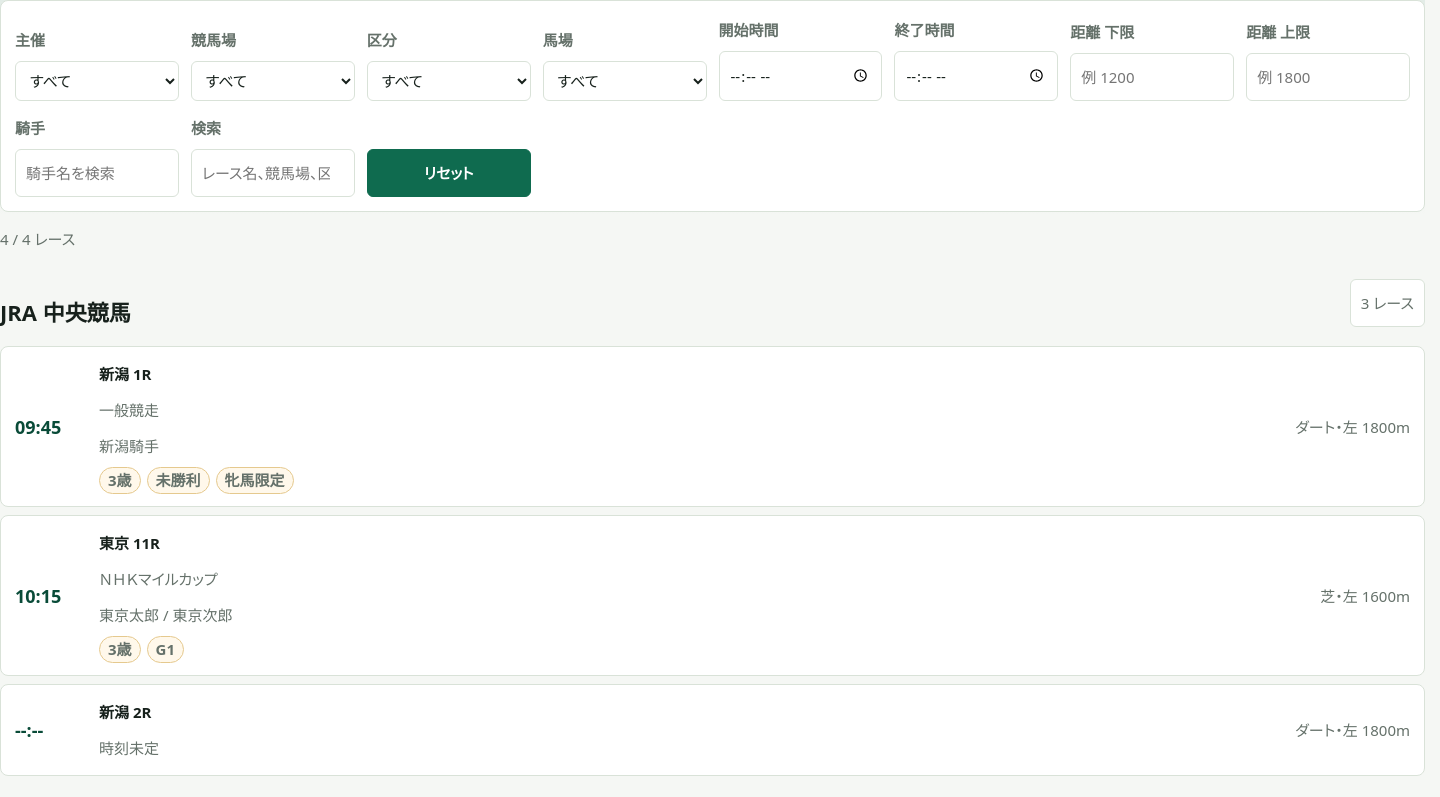
Test: race date filter › excludes races without start times when time filters are set
The width and height of the screenshot is (1440, 797).
Expected: the text "4 / 4 レース" is shown, [0,229,75,249]
Type "09:00" into the time field labelled "開始時間" at {"x": 800, "y": 76}, box [718,51,882,101]
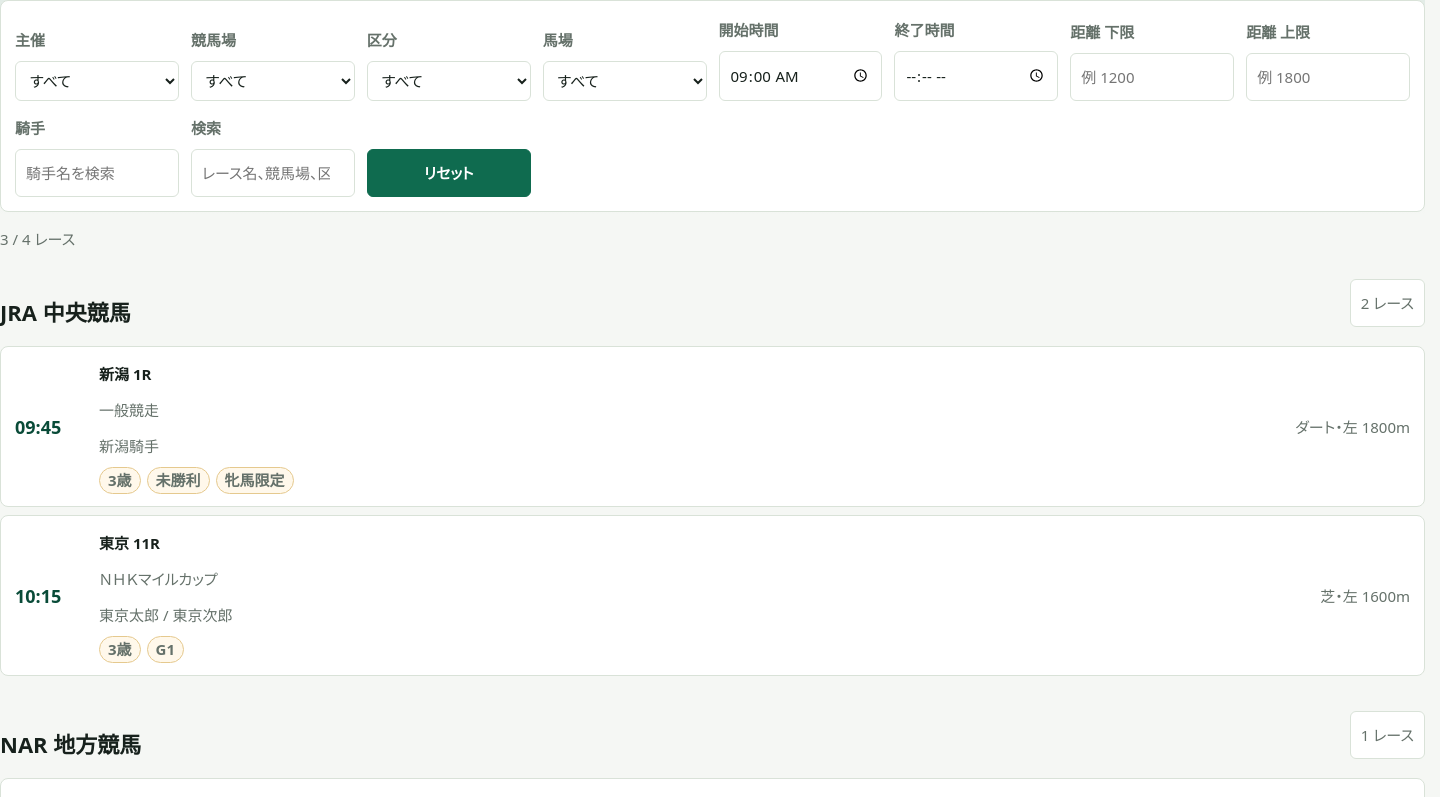
Expected: the text "3 / 4 レース" is shown, [0,229,75,249]
Expected: the link "時刻未定" is gone
